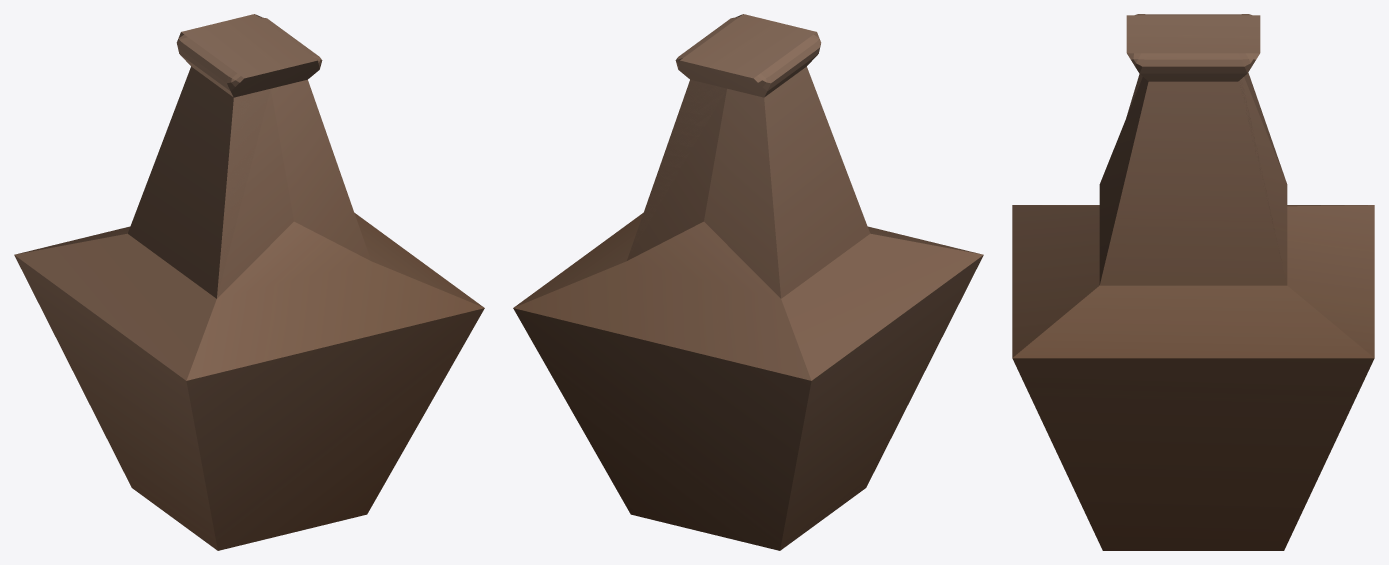
Rendered from ChestNew.glb.
3 renders of one model, left to right at view 1: azimuth 30°, elevation 25°; view 2: azimuth 150°, elevation 25°; view 3: azimuth 270°, elevation 25°, orthographic. The views are drawn at different scales.
Parts seen in each view (by area): view 1: Cube; view 2: Cube; view 3: Cube.
Boxes of the visible parts, x1,y1,x2,y2 form: Cube: (14, 14, 484, 550); Cube: (513, 14, 983, 550); Cube: (1012, 14, 1374, 550).
Bounding box in the file's own units: 2 × 2.91 × 2.
1 material, 1 textured.
